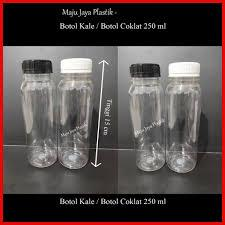BIODEGRADABLE: (124, 59, 167, 174), (58, 58, 99, 171), (167, 61, 203, 177), (21, 50, 55, 172)
